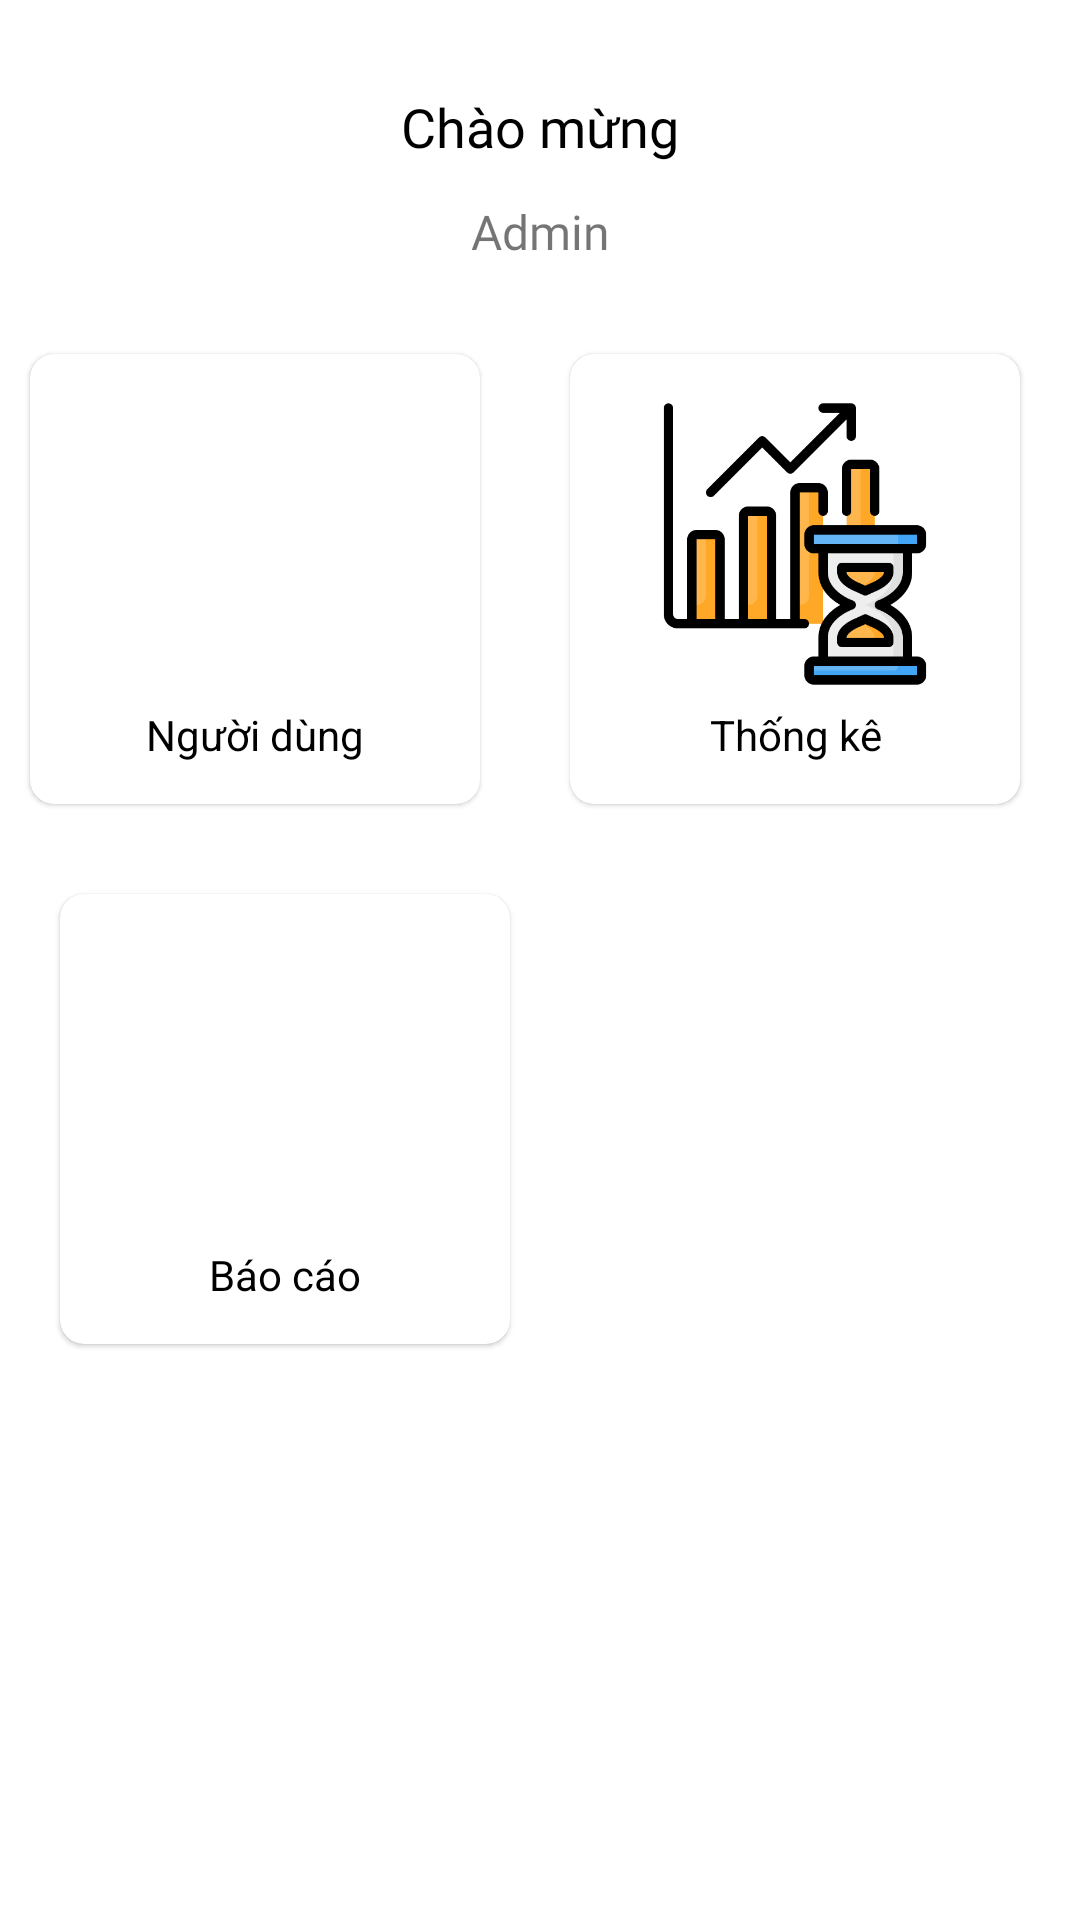

Icon click points for this 1080 × 1920 phone screenshot, format (x=x, y=y):
investment: (x=795, y=544)
